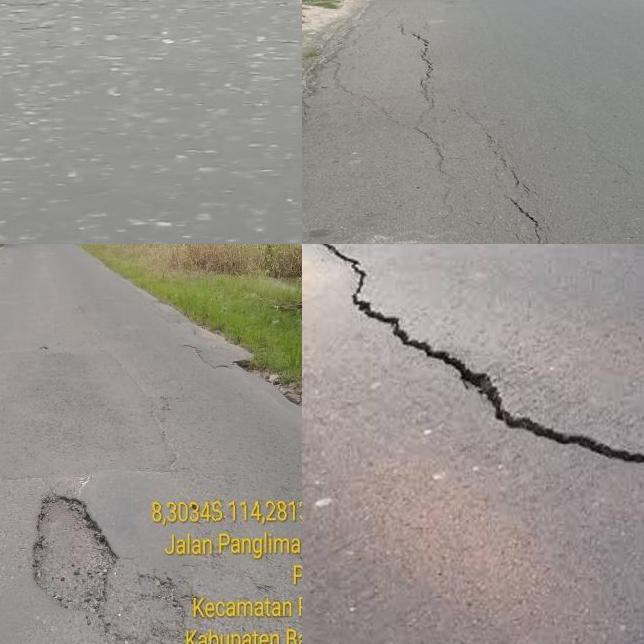Lubang: (31, 505, 116, 618)
Memanjang: (302, 244, 644, 484), (490, 127, 548, 244), (392, 14, 439, 140)
